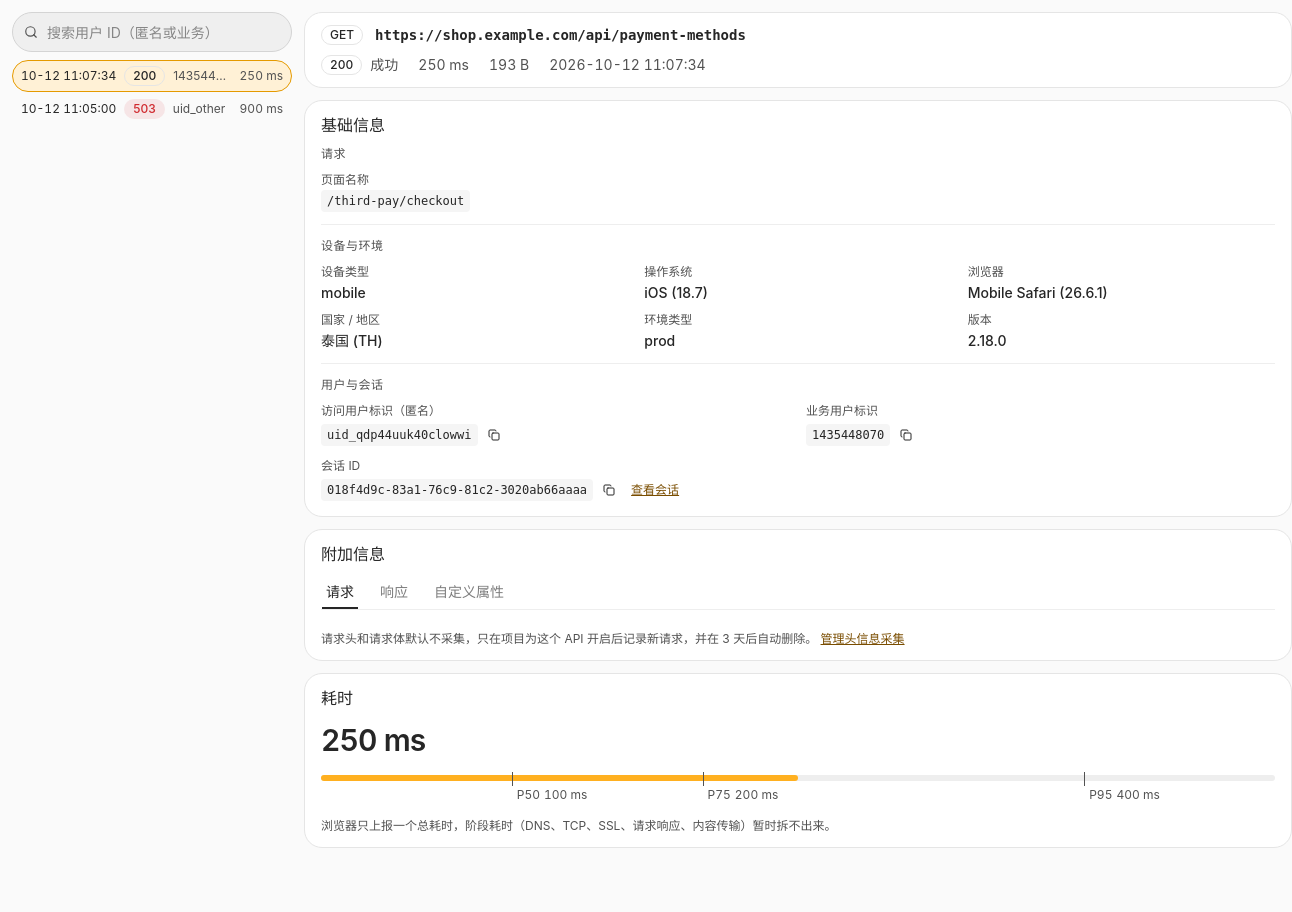
Scenario: ApiSamples › explains an empty search and a range with nothing
Expected: the list named "请求列表" is shown, top-left (12, 60), bottom-right (292, 125)
Type "nobody" into the search field named "按用户 ID 搜索请求" at (152, 32), box top-left (12, 12), bottom-right (292, 52)
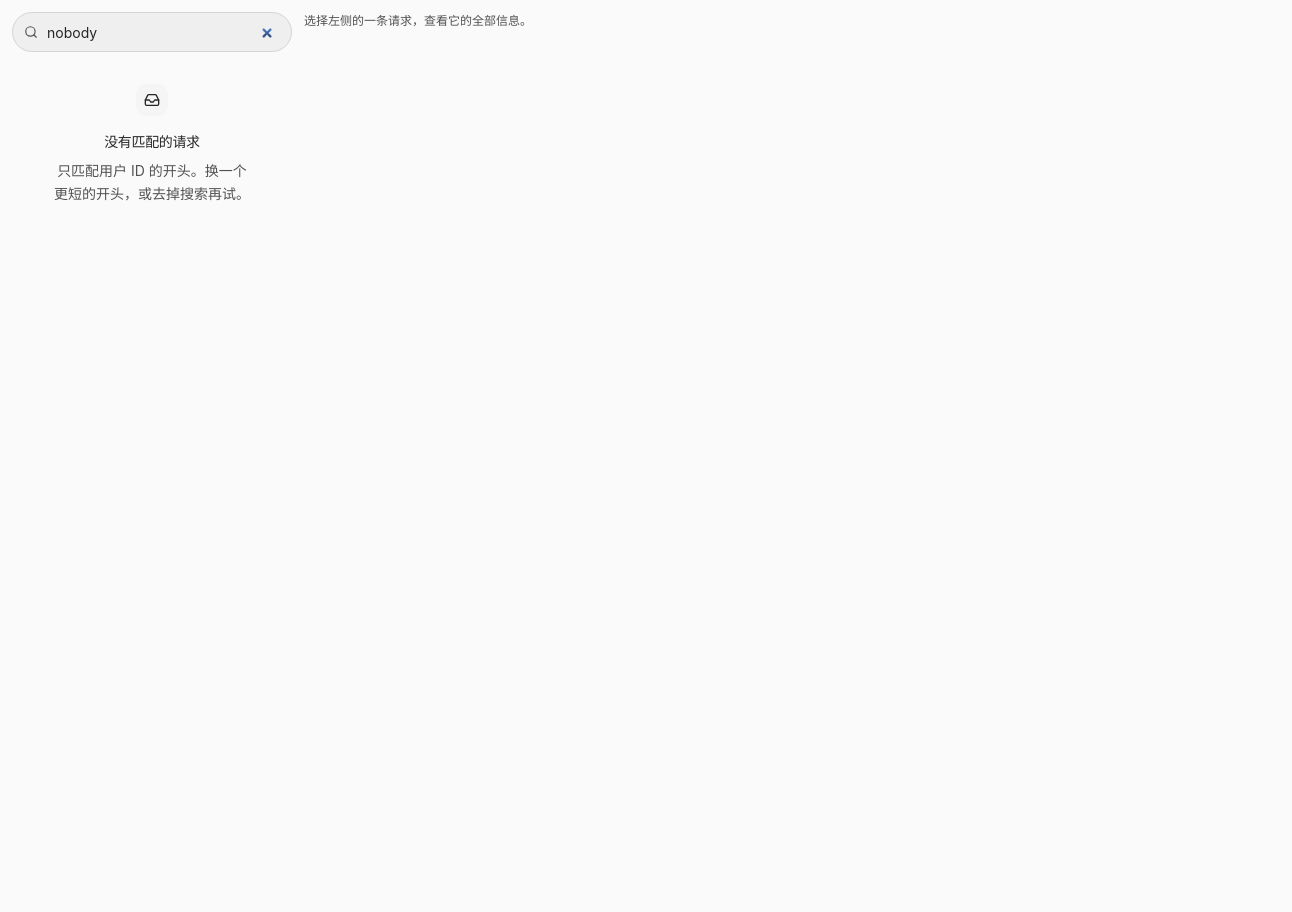
Expected: the text "没有匹配的请求" is shown, top-left (104, 132), bottom-right (200, 152)
Expected: the text "选择左侧的一条请求，查看它的全部信息。" is shown, top-left (304, 13), bottom-right (532, 28)
